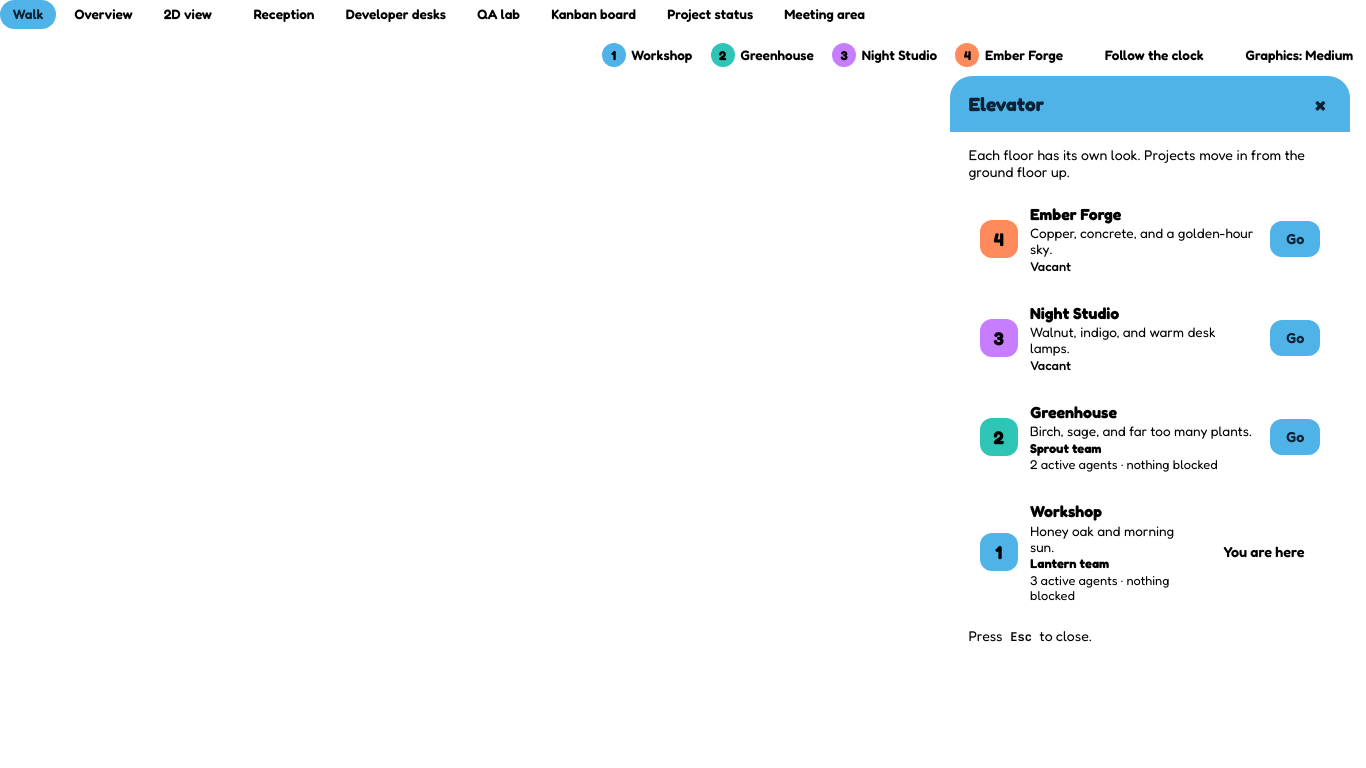
Test: floors and the elevator › lists every floor in the elevator with who works there
Check: the number of list items is 4, box [968,194,1332,284]; [968,293,1332,382]; [968,392,1332,482]; [968,492,1332,613]
Check: the list item that starts with "Ember Forge" is shown, box [1030,204,1121,224]
Click the button with aria-label "Go to Floor 2 · Greenhouse" at point(1295, 437), box [1270,419,1320,455]
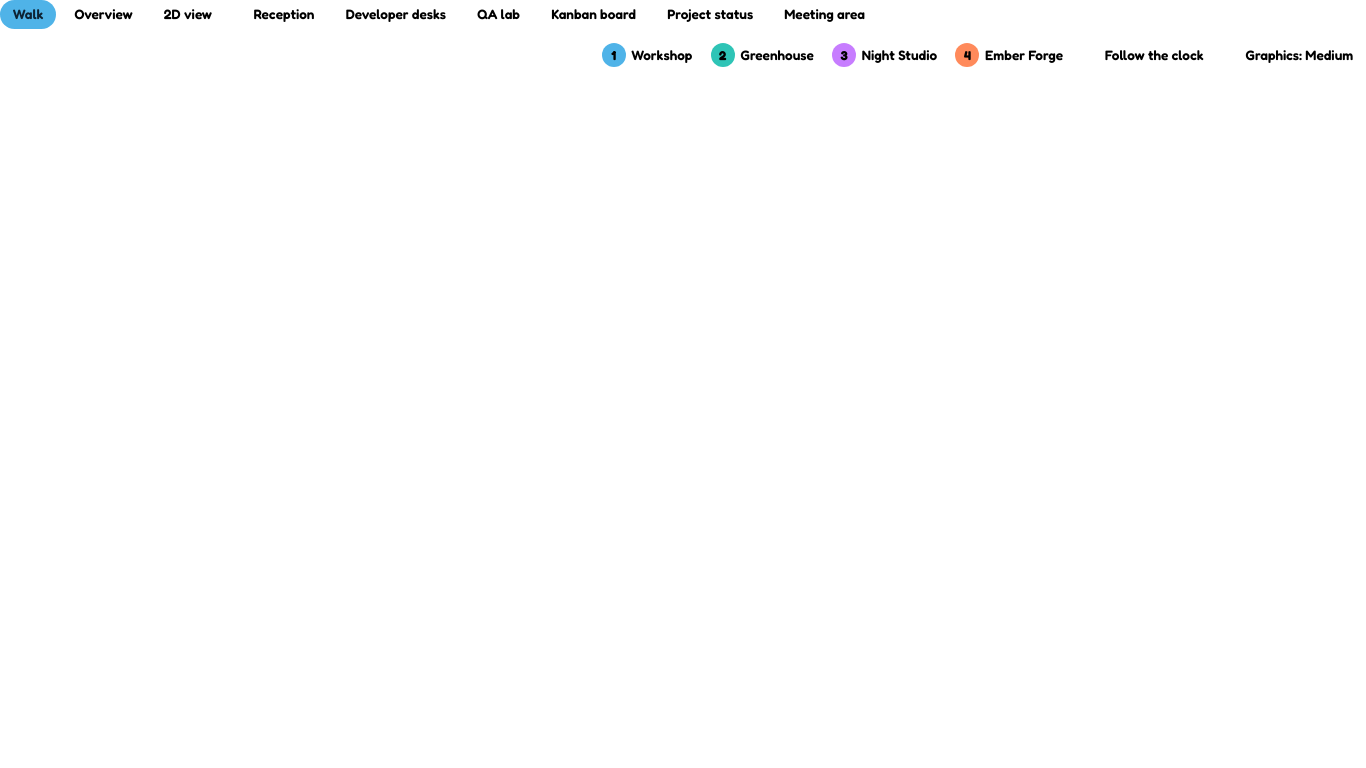
Check: the dialog is gone
